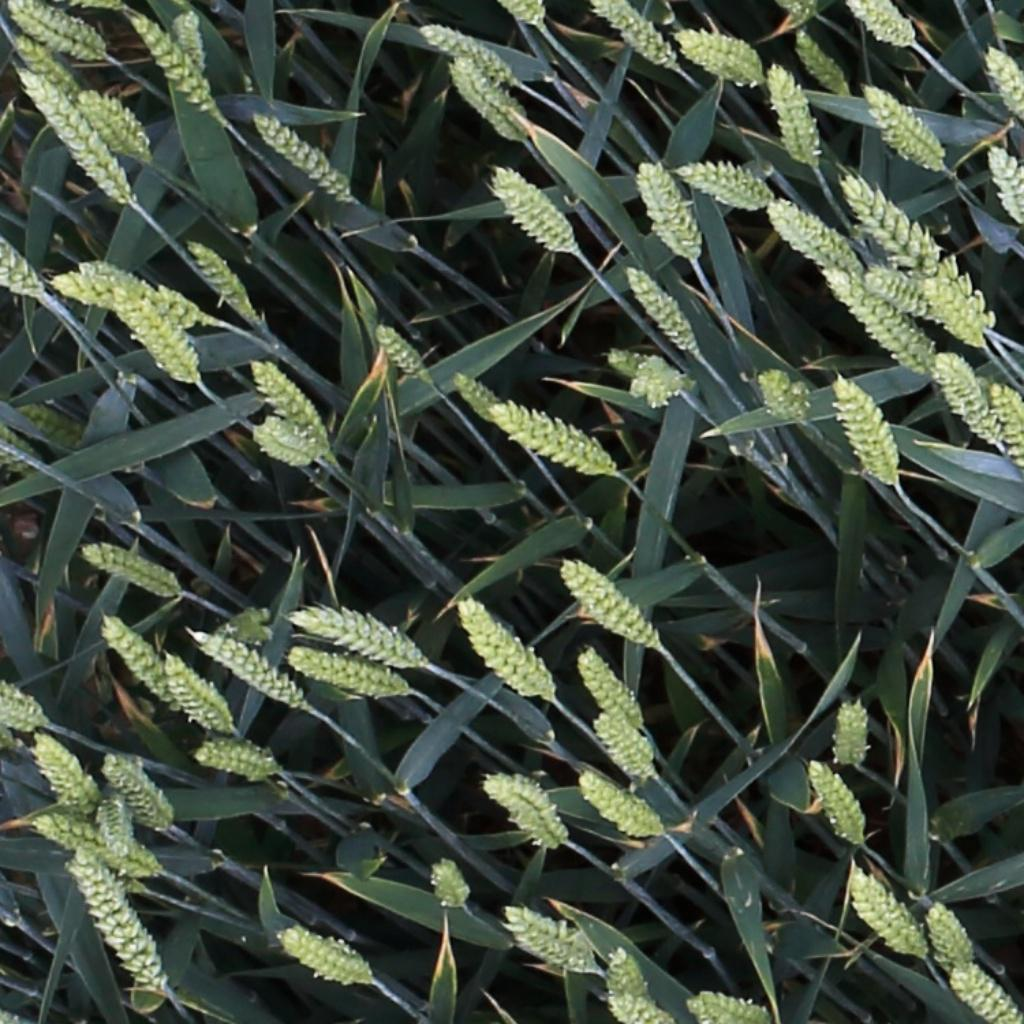0-0: (15, 66, 135, 206), (64, 846, 163, 999), (821, 267, 931, 374), (251, 109, 363, 211), (48, 260, 215, 327), (188, 629, 313, 713), (494, 398, 619, 482), (838, 172, 939, 274), (453, 599, 552, 701), (105, 289, 205, 384), (558, 558, 658, 652), (124, 10, 215, 113), (32, 808, 163, 877), (290, 608, 427, 670), (244, 354, 330, 451), (94, 614, 179, 711), (619, 260, 700, 356), (488, 163, 574, 253), (830, 371, 898, 484), (765, 197, 858, 274), (932, 349, 1004, 447), (178, 233, 261, 318), (846, 869, 925, 958), (282, 648, 412, 702), (158, 653, 238, 739), (634, 157, 700, 260), (574, 645, 645, 737), (30, 731, 101, 820), (73, 88, 154, 166), (77, 544, 184, 603), (860, 81, 943, 157), (416, 21, 516, 83), (446, 54, 521, 136), (483, 772, 562, 849), (503, 911, 593, 978), (592, 0, 677, 70), (804, 757, 866, 850), (764, 61, 816, 167), (100, 751, 171, 827), (577, 775, 660, 839), (920, 271, 988, 348), (8, 1, 99, 57), (279, 929, 367, 985), (12, 30, 80, 102), (588, 711, 653, 782), (613, 347, 692, 404), (789, 24, 849, 98), (981, 43, 1024, 140), (950, 963, 1018, 1024), (922, 898, 976, 974), (866, 267, 943, 320), (370, 319, 430, 386), (674, 162, 772, 203), (985, 378, 1024, 481), (189, 737, 279, 780), (984, 137, 1024, 233), (678, 36, 760, 79), (876, 120, 943, 169), (1, 225, 45, 297), (849, 1, 914, 49), (606, 940, 648, 1014), (753, 367, 808, 423), (23, 401, 88, 446), (688, 990, 771, 1024), (447, 368, 499, 421), (832, 697, 865, 778), (107, 797, 143, 864), (251, 424, 314, 462), (432, 858, 471, 918), (3, 689, 49, 733), (173, 5, 203, 70), (608, 992, 666, 1024), (503, 1, 544, 28), (779, 0, 813, 31)
